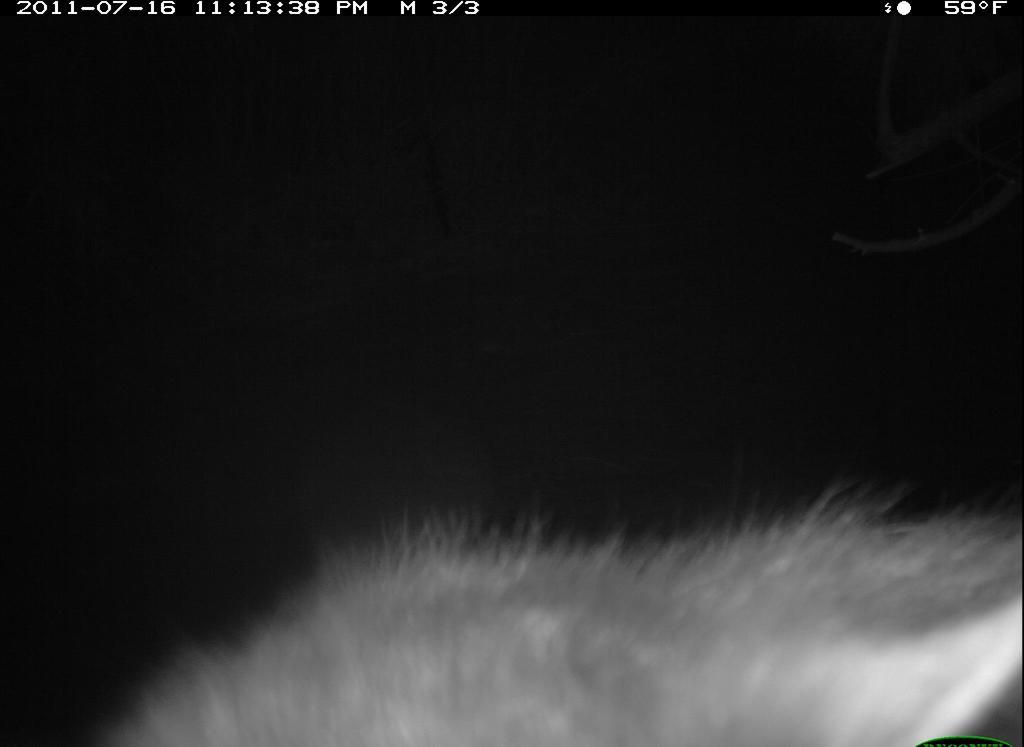raccoon: (89, 460, 1021, 742)
